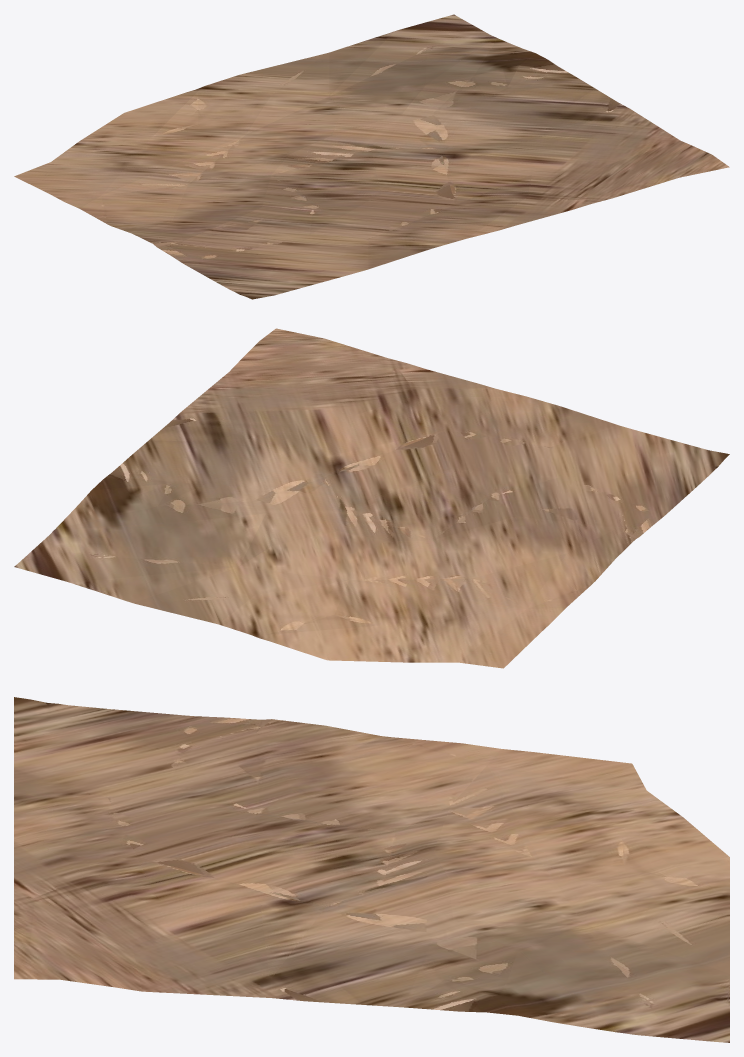
The picture shows the model from 3 angles, top to bottom: view 1: azimuth 30°, elevation 25°; view 2: azimuth 150°, elevation 25°; view 3: azimuth 270°, elevation 25°; orthographic projection. The views are drawn at different scales.
Size of the model in its own units: 2.09 by 0.2878 by 2.09.
3 materials, 3 textured.
